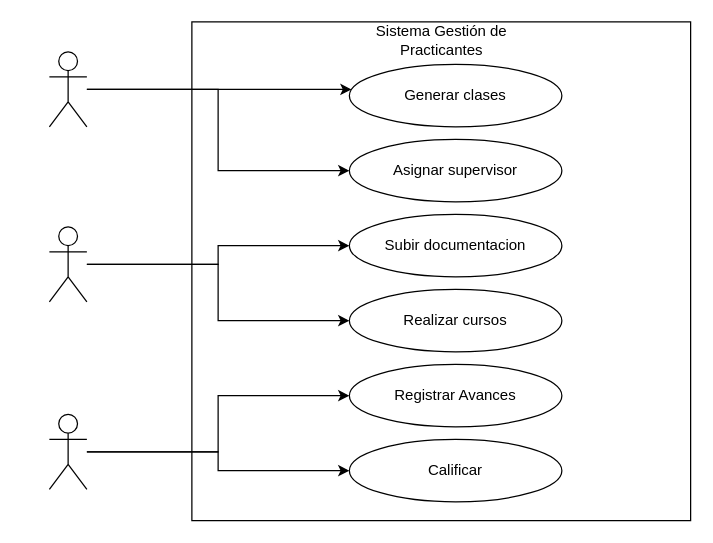
This 713x543 diagram has some shape labels left out. The shapes that lost their labels are listed below. From the top down, each one's box as (x1, y1, x2, y2) in pixels, then its label:
(48, 51, 87, 127): Administrador
(48, 226, 87, 302): Practicante
(48, 413, 87, 489): Supervisor
